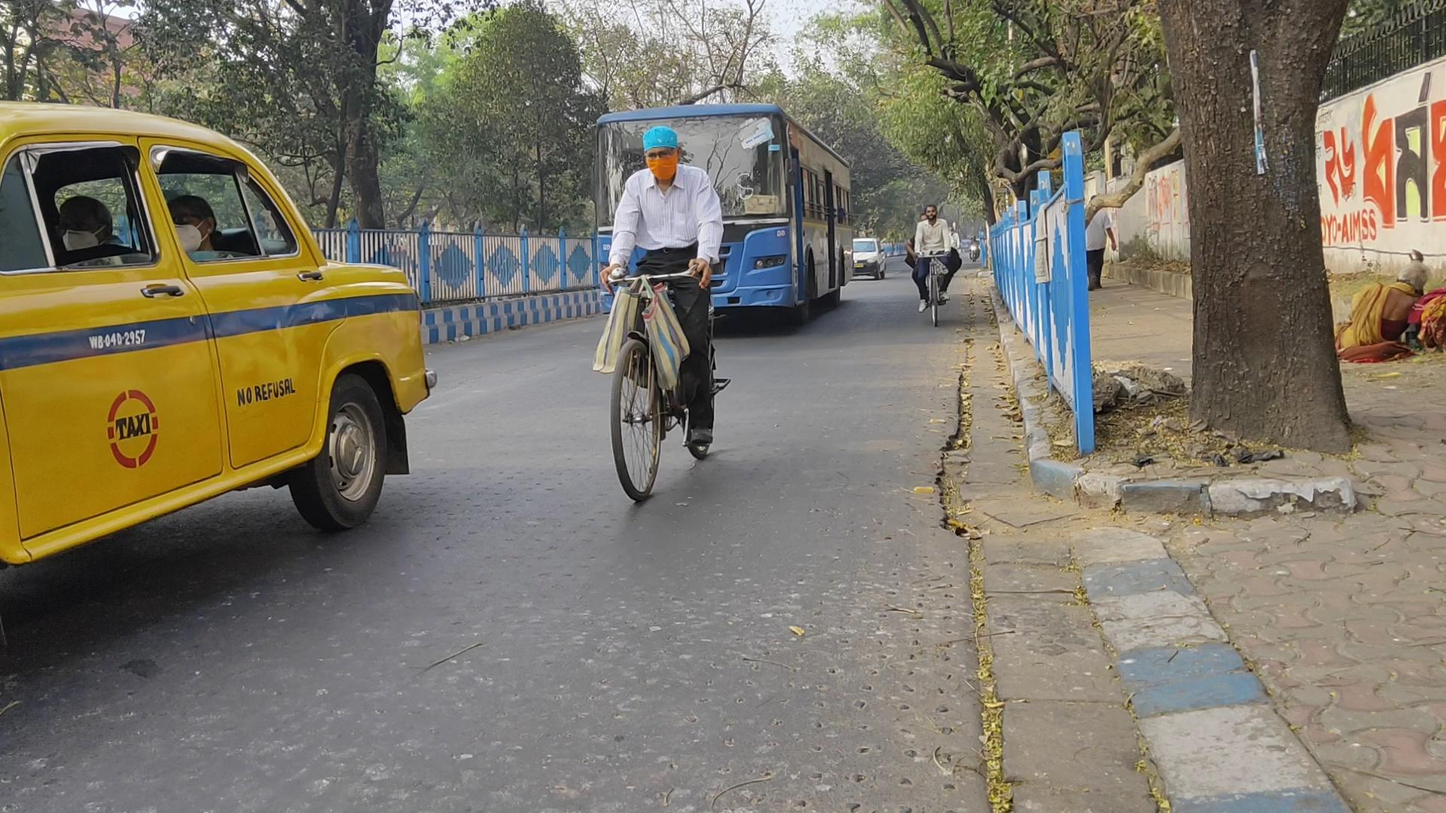Bus: (594, 105, 852, 330)
bike: (600, 126, 732, 502), (910, 204, 957, 325), (969, 235, 981, 263)
car: (2, 96, 436, 619), (853, 237, 889, 282)
